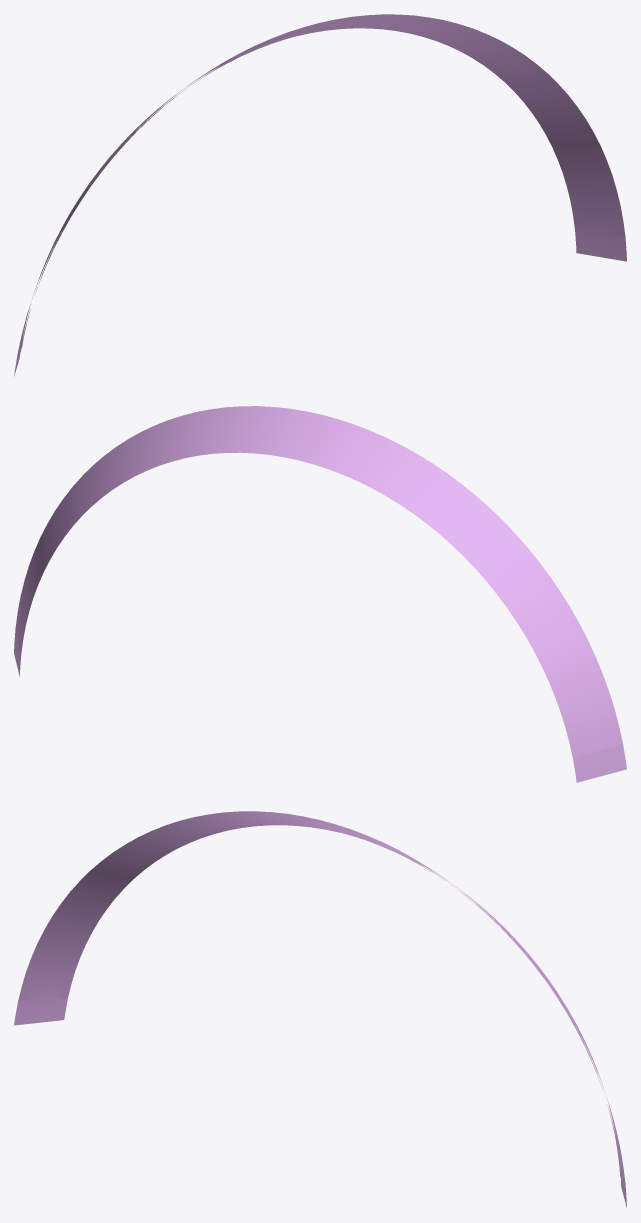
The model's file is Mesh_Note_29.fbx.
The picture shows the model from 3 angles, top to bottom: view 1: azimuth 30°, elevation 25°; view 2: azimuth 150°, elevation 25°; view 3: azimuth 330°, elevation 25°; orthographic projection.
Visible parts, largest first — view 1: Mesh_Note_29; view 2: Mesh_Note_29; view 3: Mesh_Note_29.
Boxes of the visible parts, bbox=[...] form: Mesh_Note_29: bbox=[14, 14, 626, 376]; Mesh_Note_29: bbox=[14, 406, 626, 782]; Mesh_Note_29: bbox=[14, 811, 626, 1207].
Bounding box in the file's own units: 3.54 × 1.74 × 0.2235.
